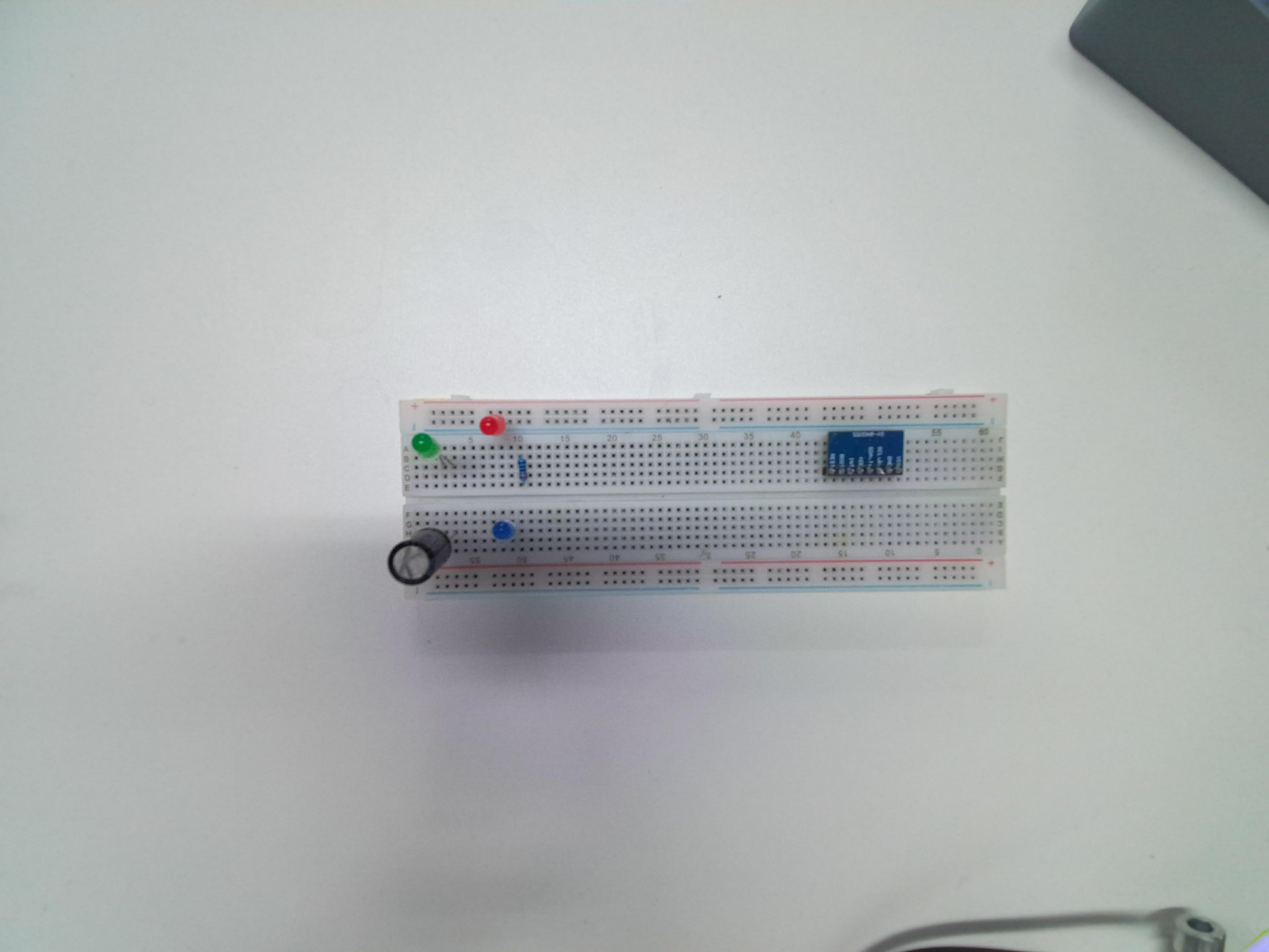base: (388, 393, 1010, 596)
blue-board: (822, 427, 905, 481)
blue-led: (492, 521, 515, 541)
capacitor: (388, 525, 455, 586)
green-led: (407, 429, 445, 461)
red-led: (476, 412, 510, 439)
resistor-small: (517, 457, 530, 483)
